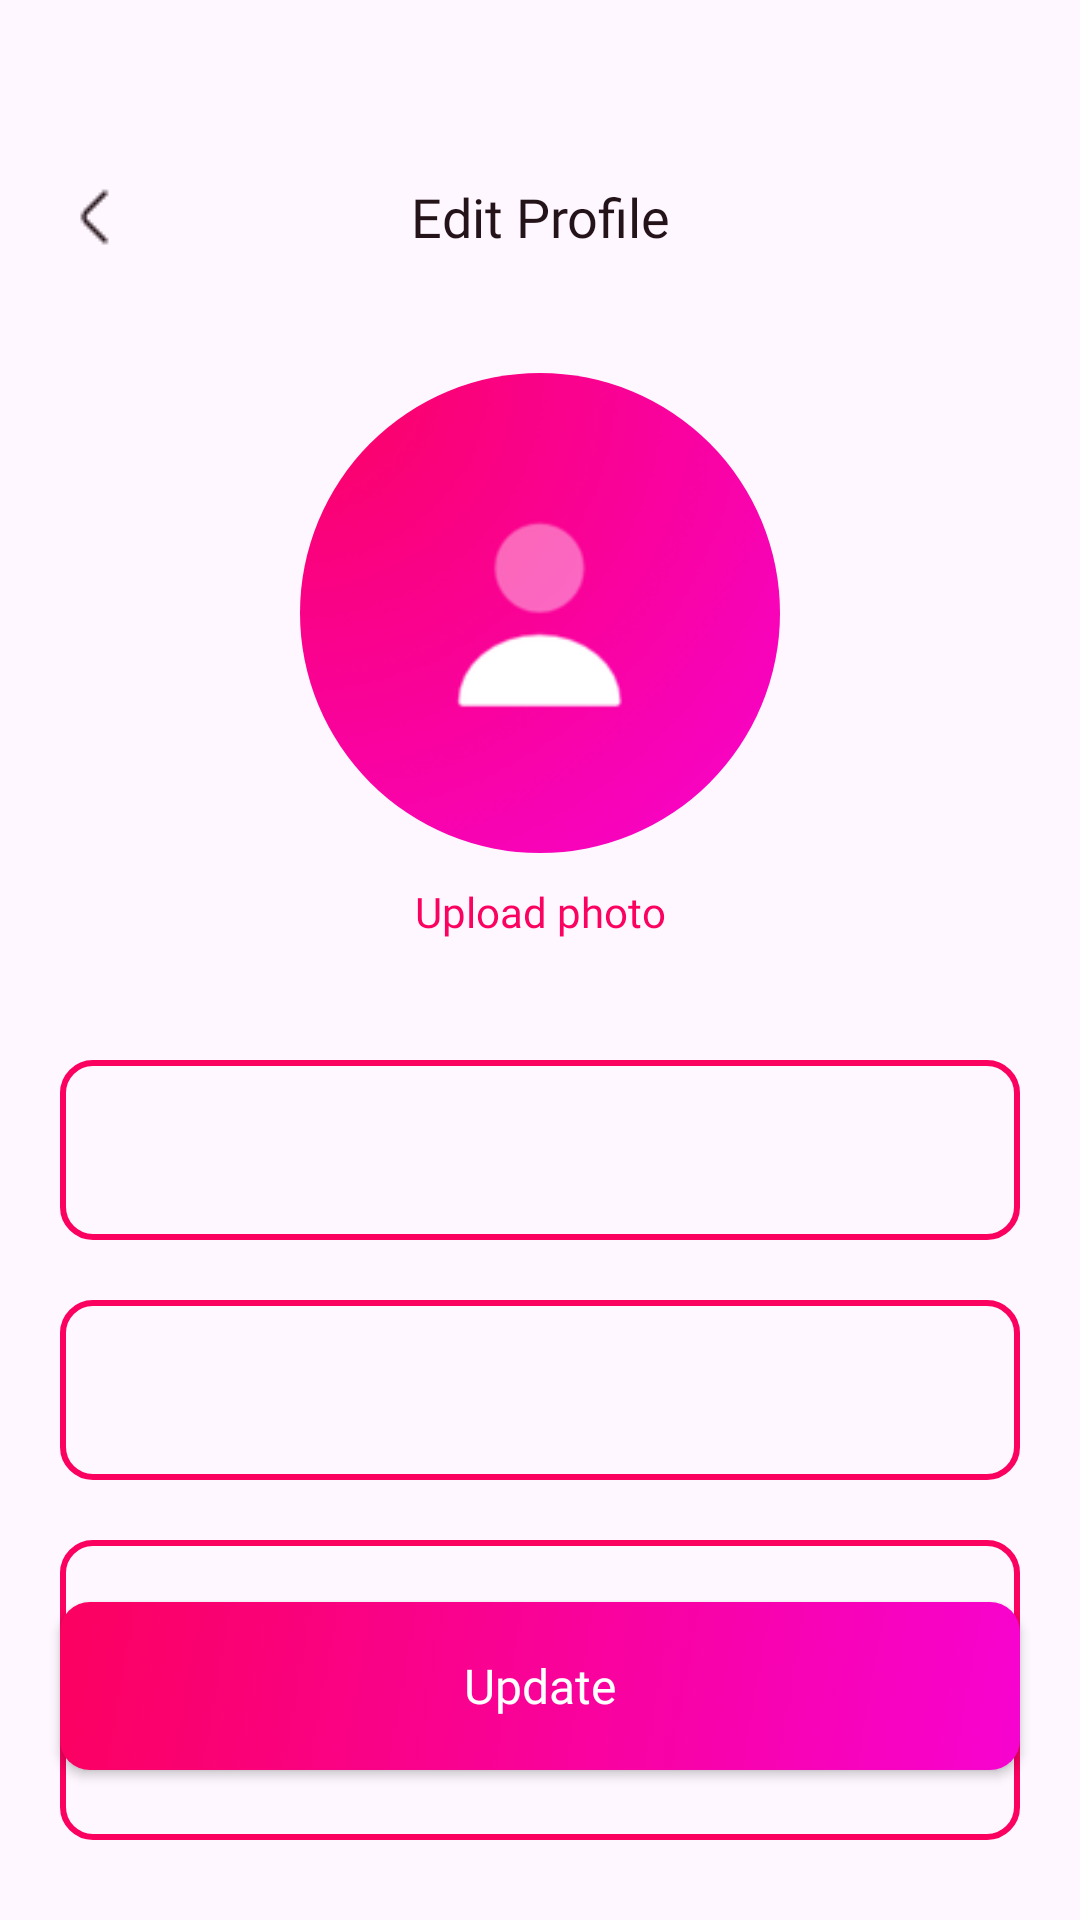

Icons on this 1080*1920 Android screen, each with the point to tap as (x=x, y=y):
arrow left: (x=94, y=217)
